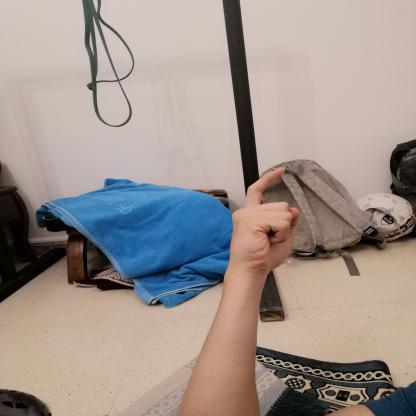RAA: (218, 162, 308, 283)
